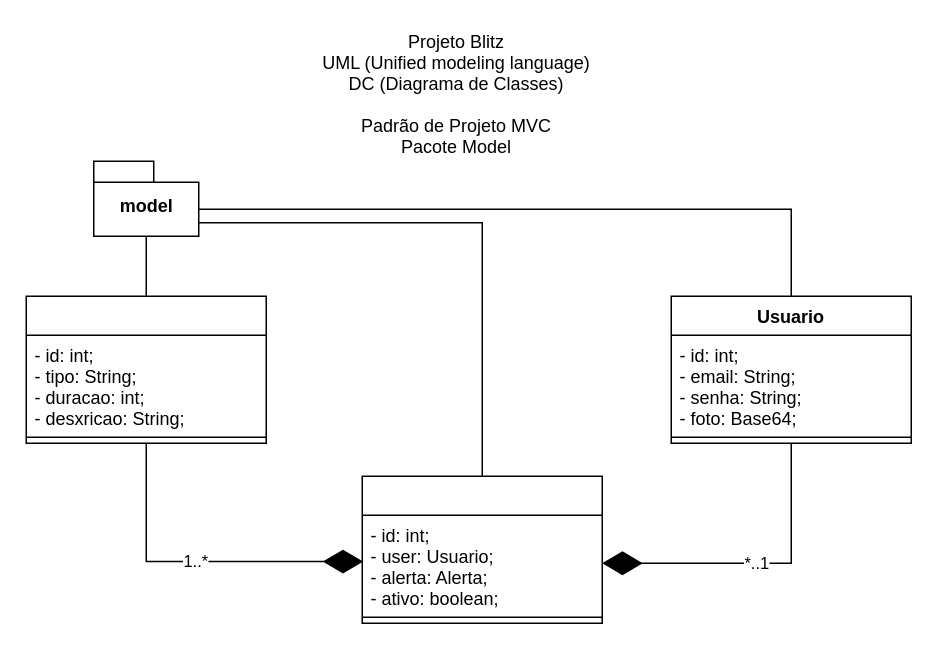
This 938x650 diagram has some shape labels left out. The box of each missing label's shape, as (x1, y1, x2, y2) in pixels:
Alerta: (25, 295, 266, 443)
Localizacao: (361, 475, 602, 623)
